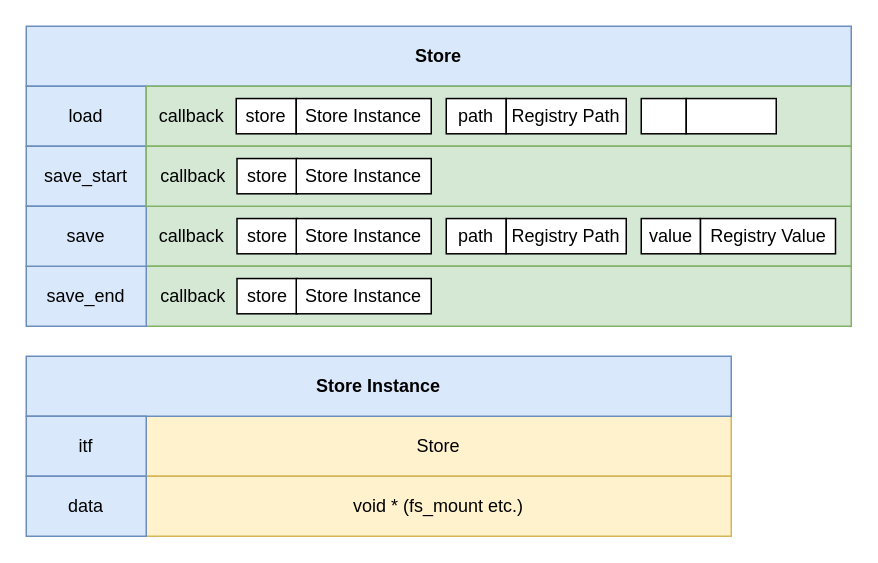
The diagram is 878 pixels wide and 563 high, and some of its shapes have lost their labels. The shapes that lost their labels are listed below. From the top down, each one's centre as x and y in pixels, then its label:
At point 663,115: "cb".
At point 730,115: "load_cb_t".
